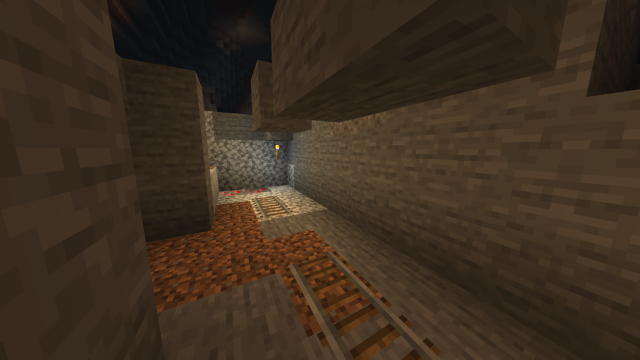redstone: (220, 186, 270, 197)
